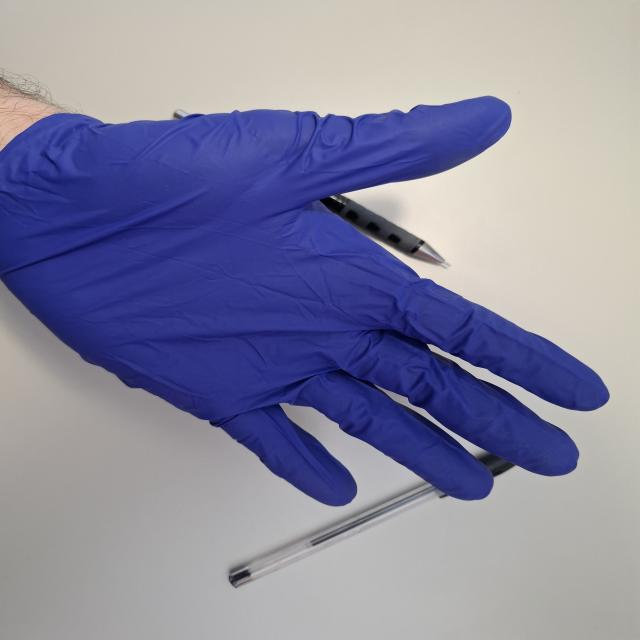glove_on: (0, 92, 612, 509)
